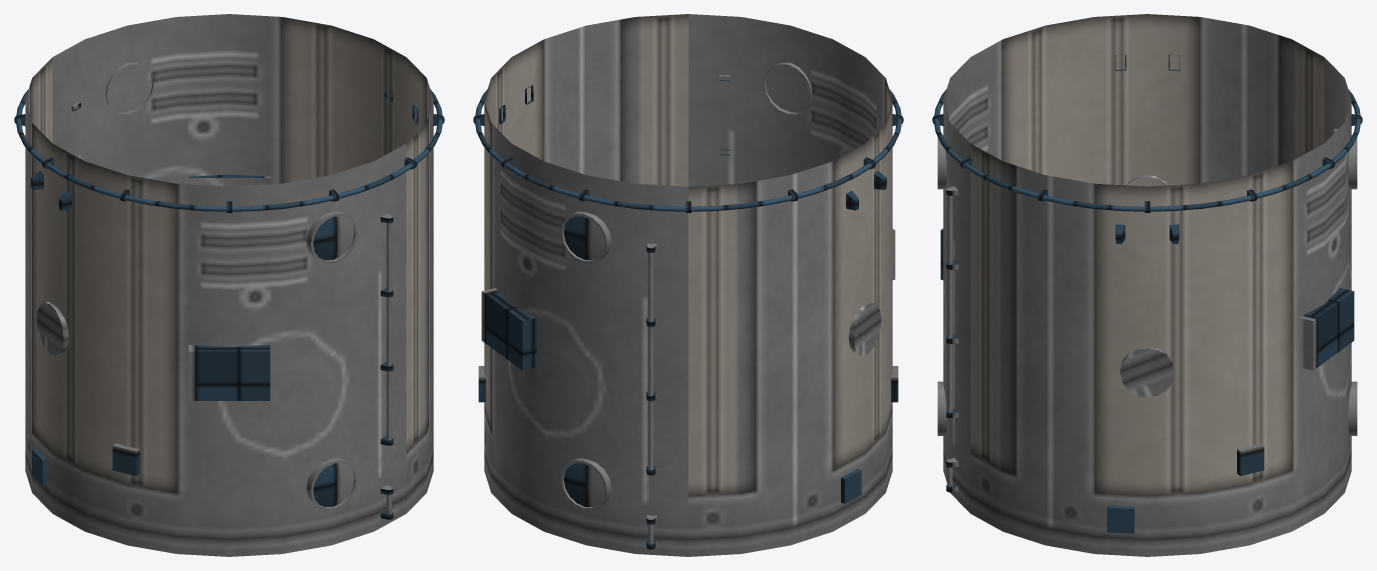
Rendered from priroda_core_naked.obj.
3 renders of one model, left to right at view 1: azimuth 30°, elevation 25°; view 2: azimuth 150°, elevation 25°; view 3: azimuth 270°, elevation 25°, orthographic.
Visible parts, largest first — view 1: 1, w1_copy8; view 2: 1, w1_copy8; view 3: 1.
Part boxes in pixels (box(x1,y1,x2,y2)): 1: box(14, 14, 444, 556); w1_copy8: box(313, 216, 354, 507); 1: box(473, 14, 903, 556); w1_copy8: box(563, 216, 604, 507); 1: box(932, 14, 1362, 556).
Bounding box in the file's own units: 1.98 × 1.88 × 1.98.
